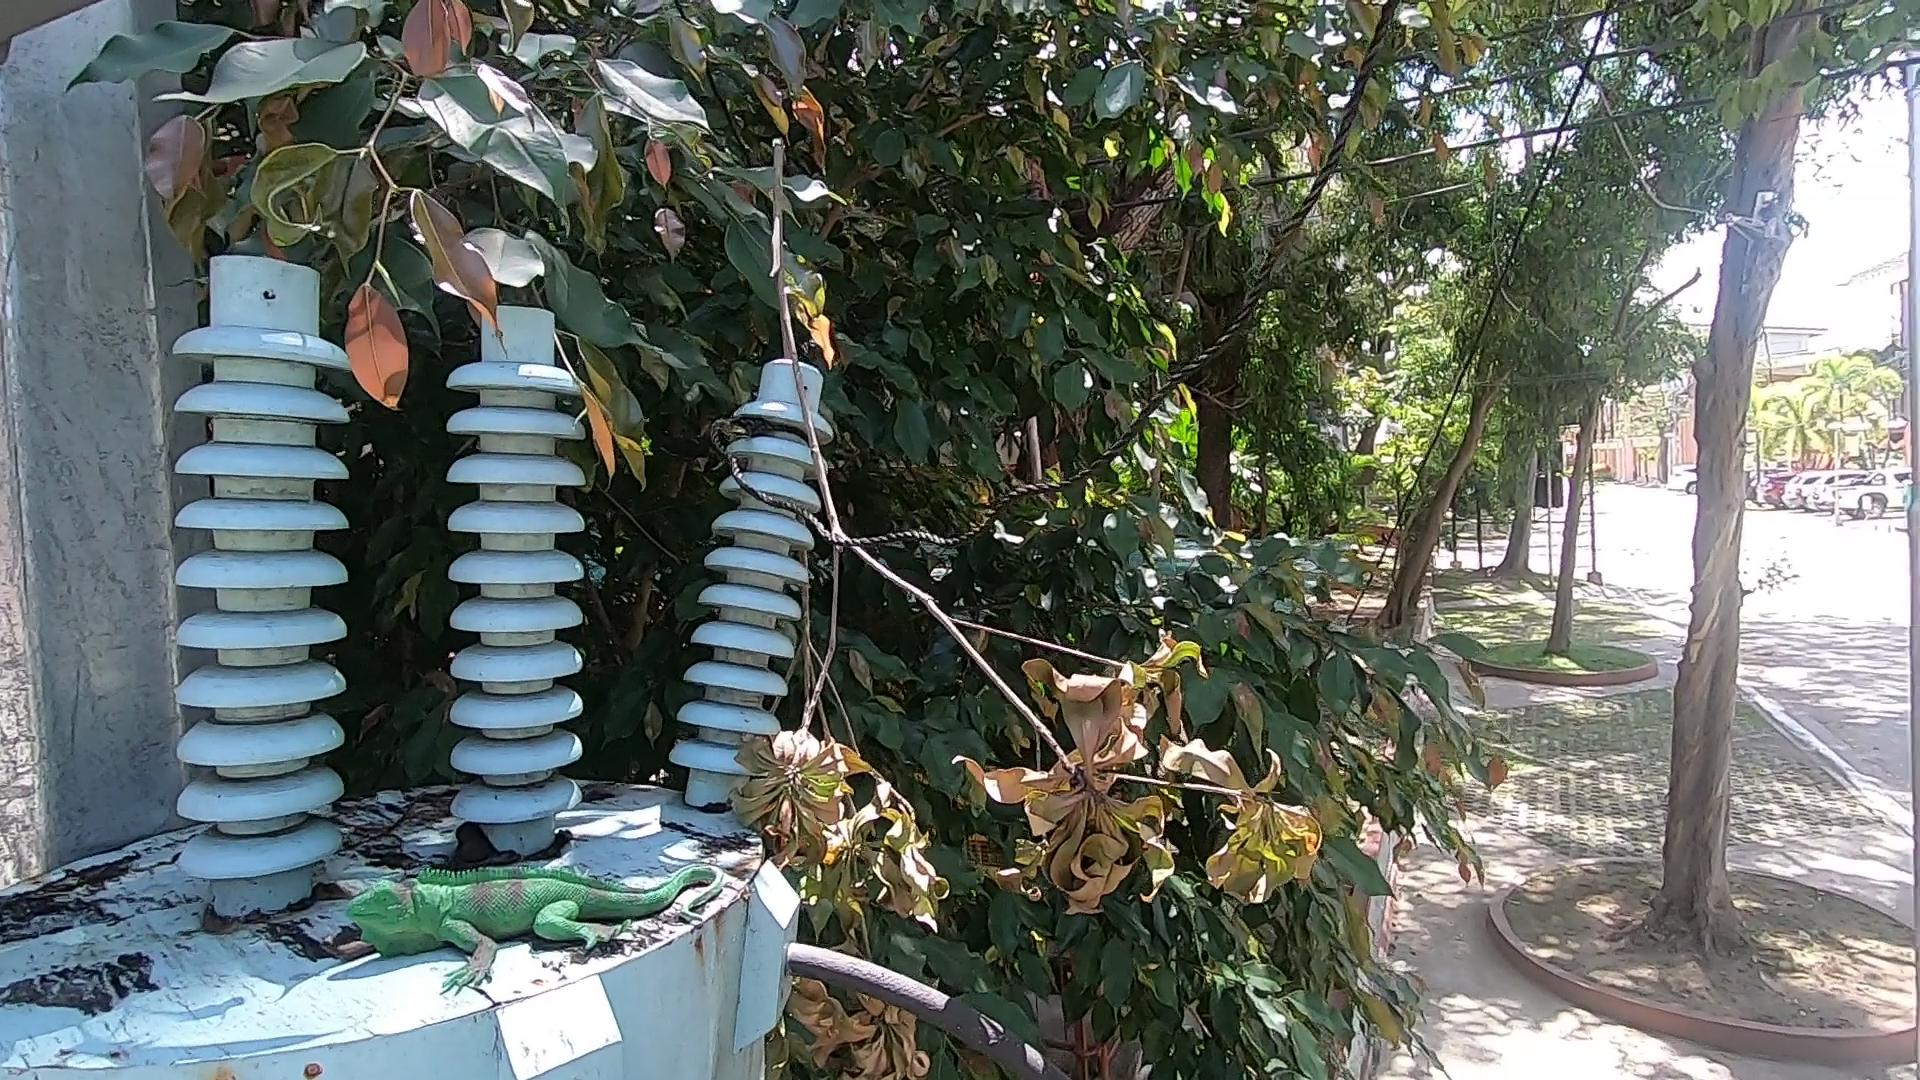branch with leaves: (705, 132, 1385, 1080)
leaf: (435, 822, 513, 862), (520, 828, 585, 858), (328, 939, 367, 957)
tree branch: (356, 775, 417, 857)
